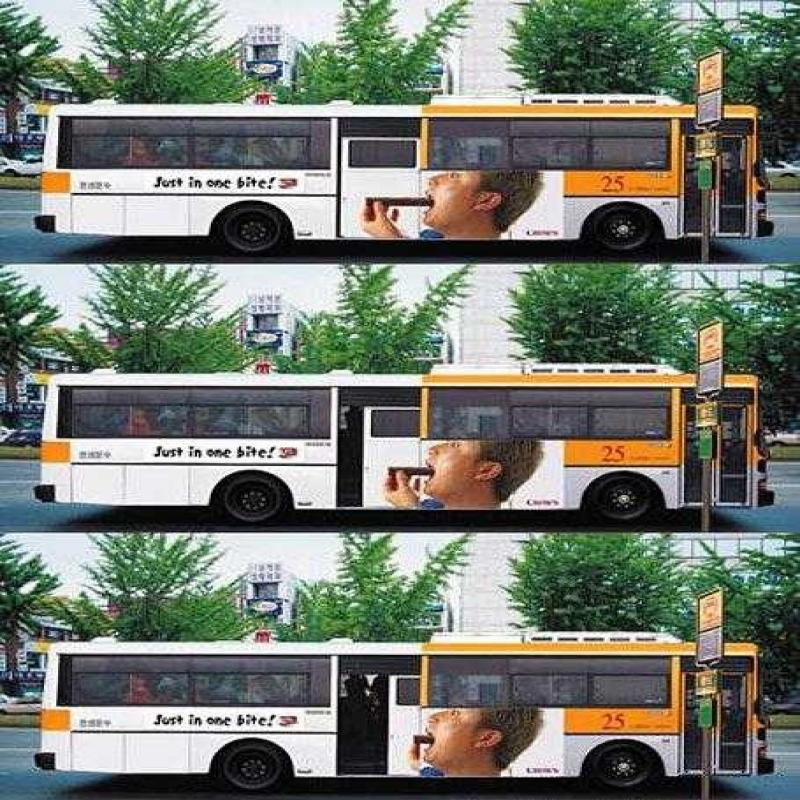bus: (34, 68, 762, 254), (36, 366, 782, 524)
